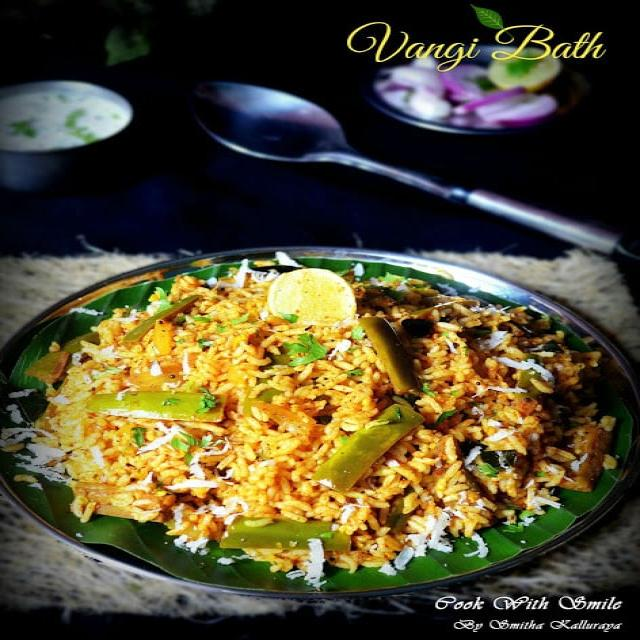vangi bath: (2, 244, 640, 584)
